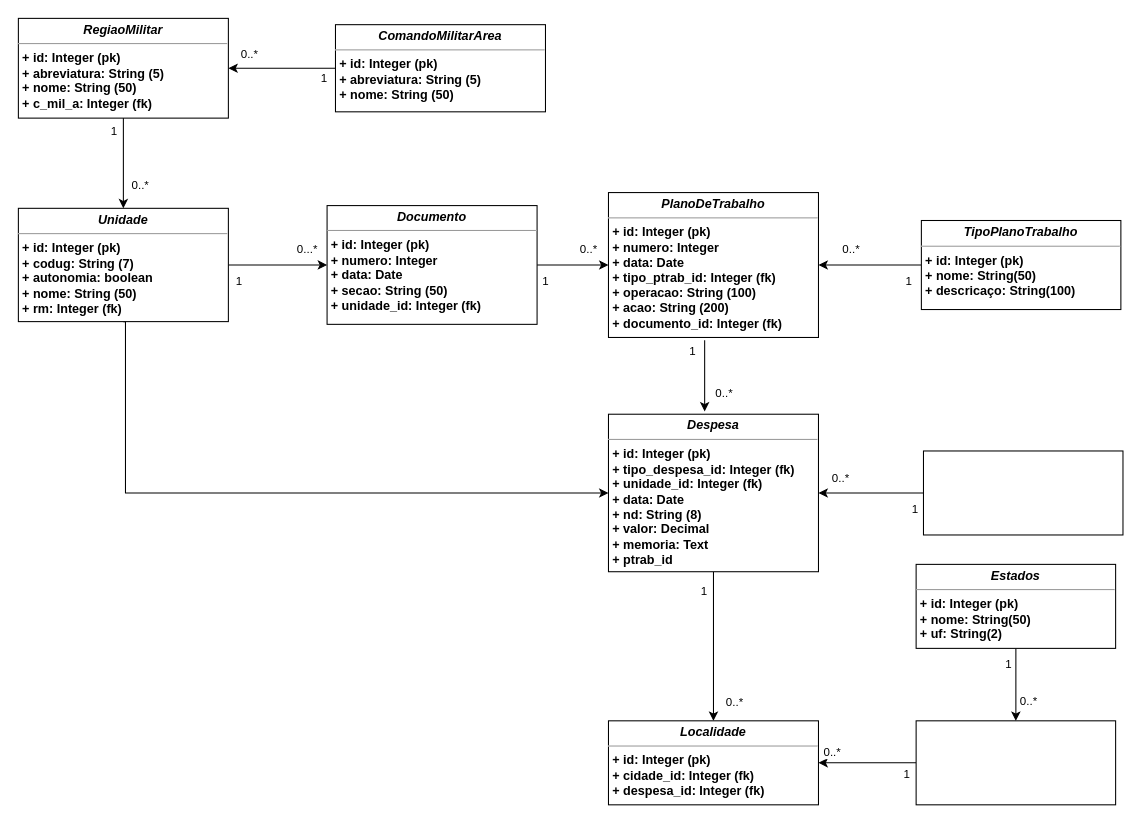
Image size: 1141x823. Some labels were removed from this diagram. Here are the shapes that lost their labels. From the top down, the centre of each, then its label:
the point at 1022,492: TipoDespesa + id: Integer (pk) + nome: String(50)
the point at 1015,762: Cidade + id: Integer (pk) + nome: String(50) + estado_id: Integer (fk)
